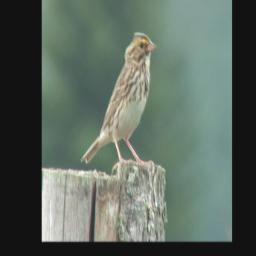Sparrow: (80, 31, 158, 177)
